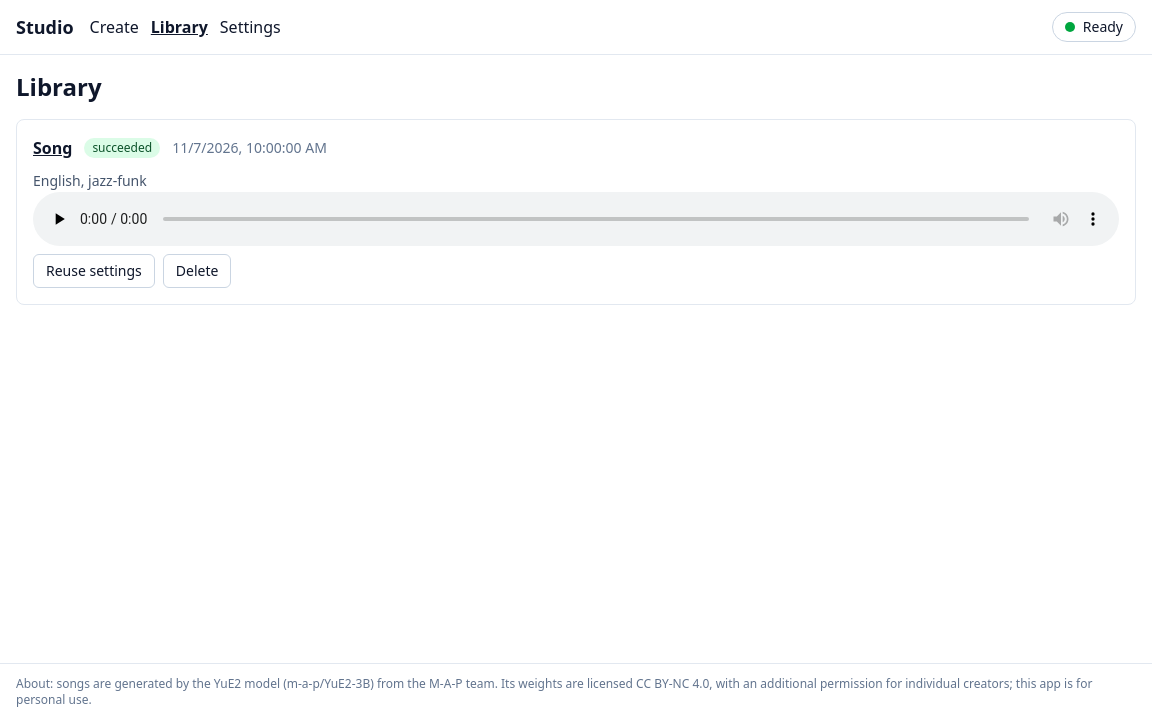
Test case: Library (U-4) › confirming deletes and refreshes the list
This screenshot has width=1152, height=720.
Click the button with aria-label "Delete Song" at {"x": 197, "y": 271}, box x1=163 y1=254 x2=231 y2=288
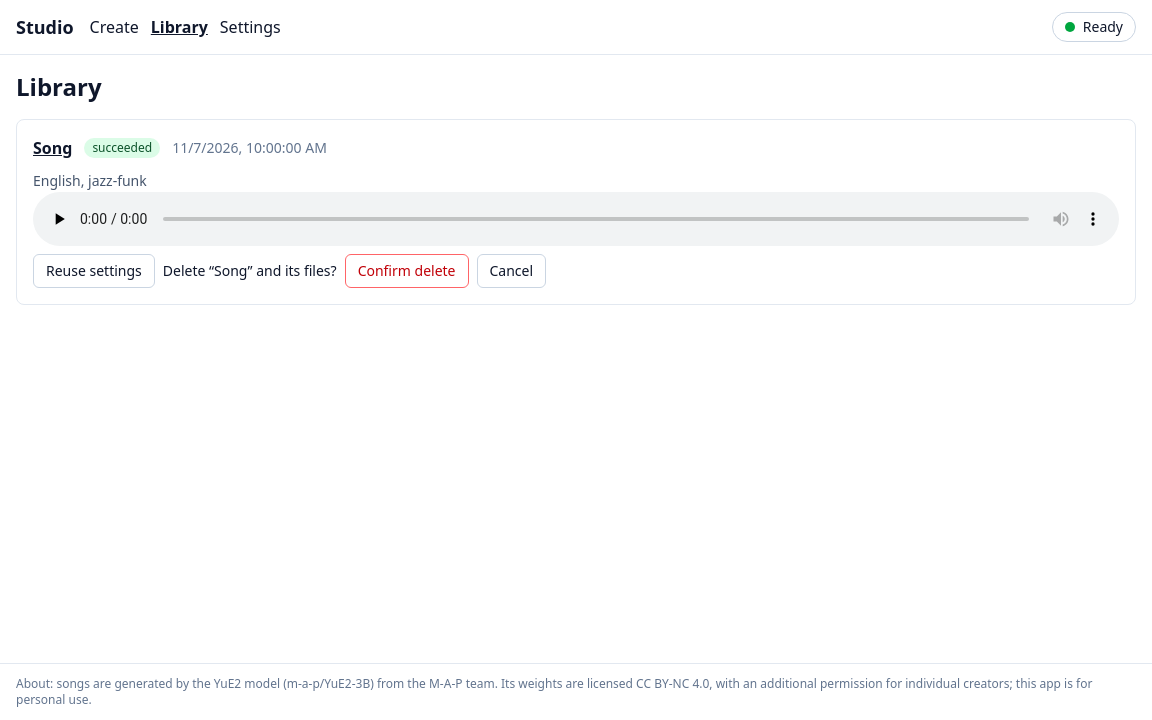
Click the button "Confirm delete" at {"x": 407, "y": 271}, box x1=345 y1=254 x2=468 y2=288
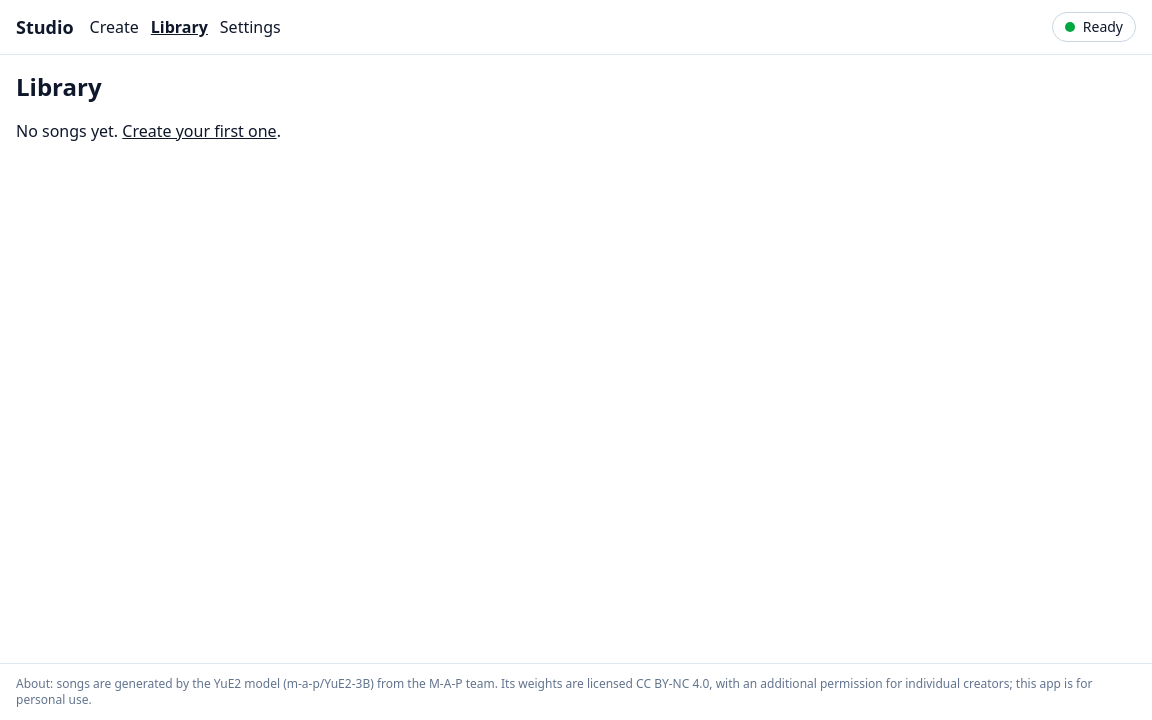
Expected: the text "No songs yet. Create your first one ." is shown, x1=16 y1=120 x2=281 y2=142
